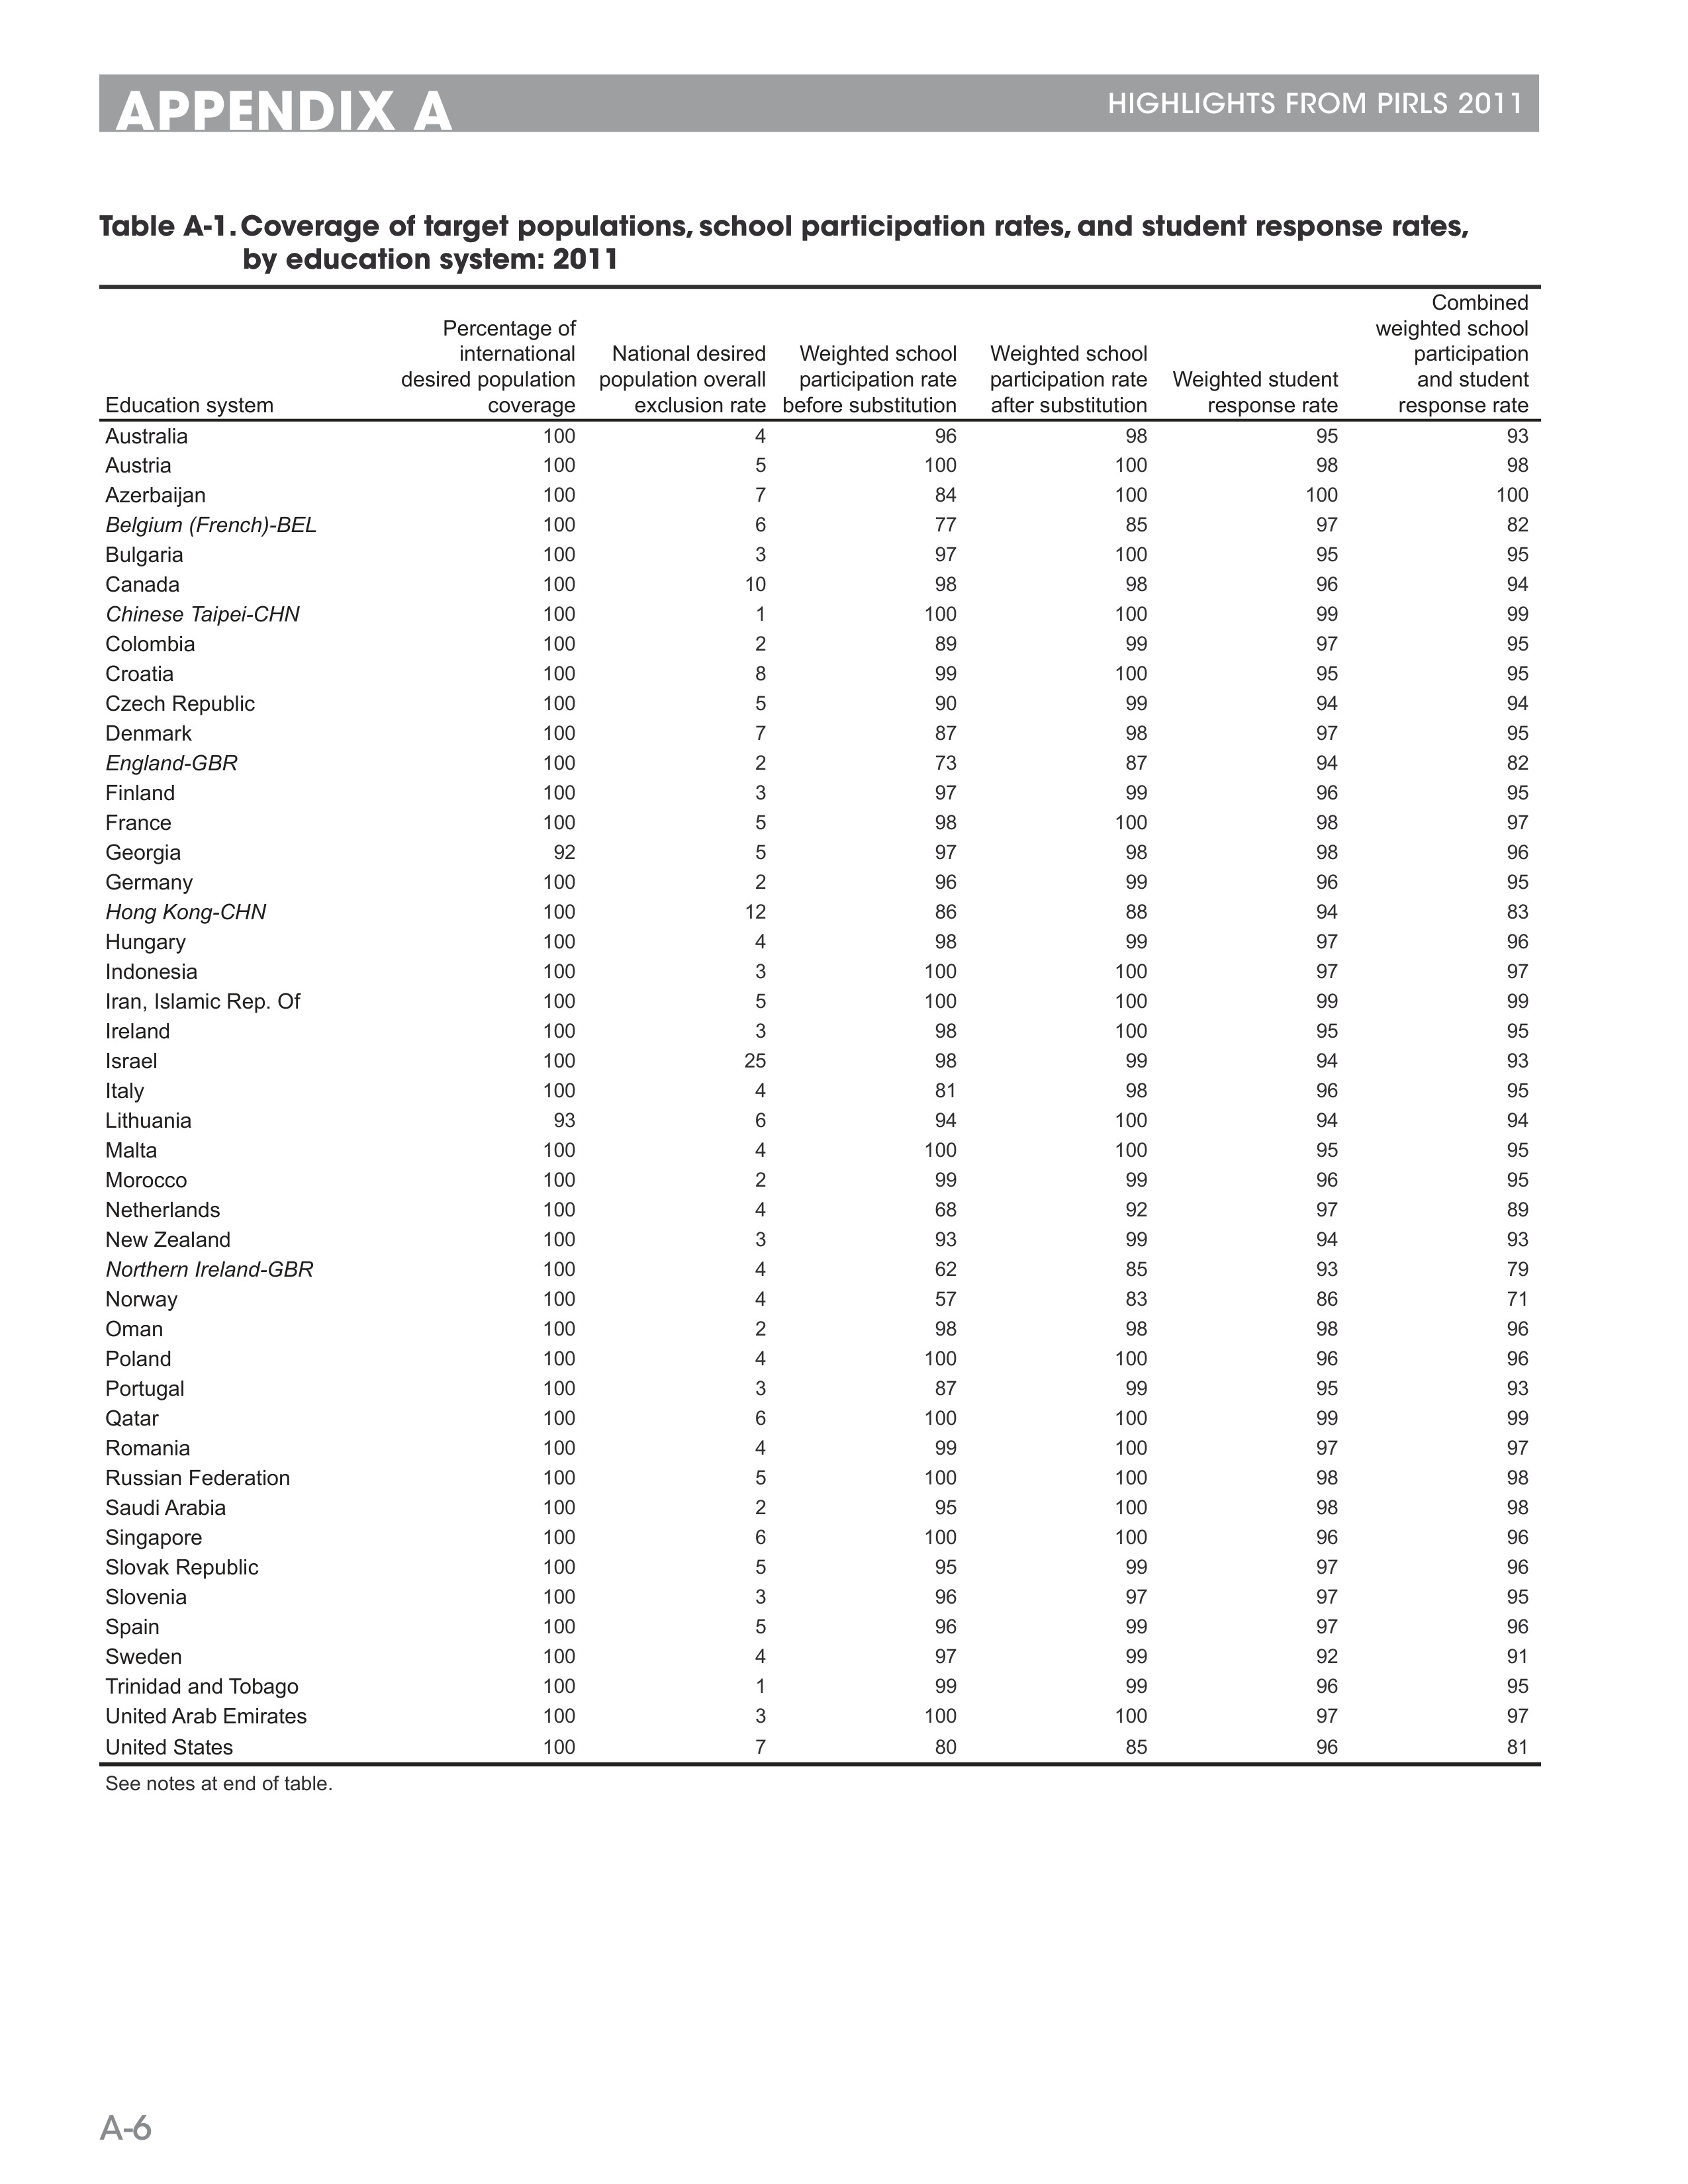table: (105, 291, 1528, 1759)
